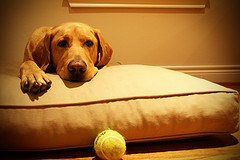tennis ball: (92, 128, 127, 159)
